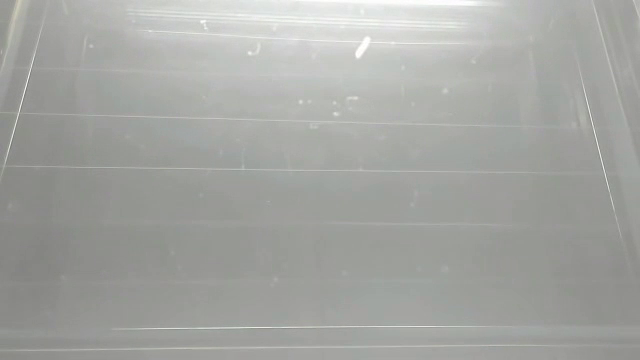alpha: (352, 33, 373, 61)
